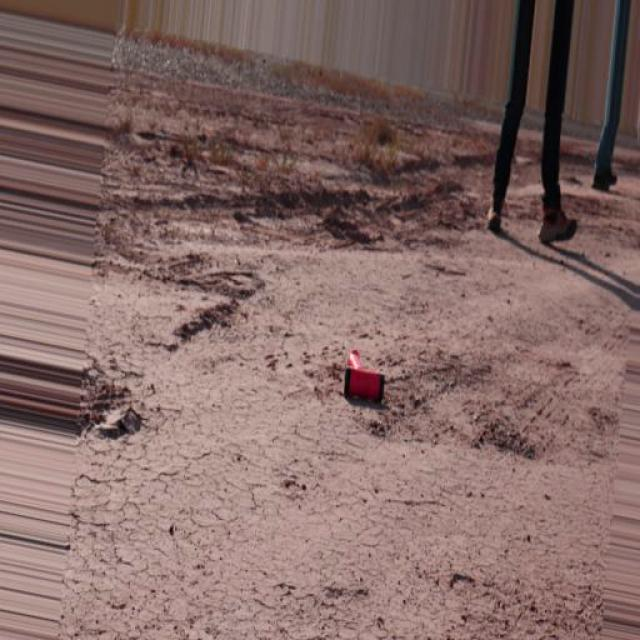mallet: (344, 348, 386, 402)
